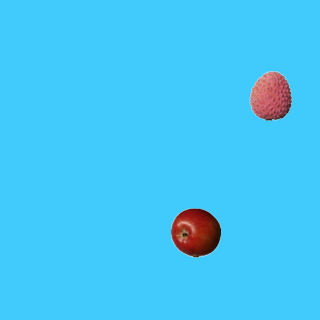Apple Braeburn: (170, 207, 220, 257)
Lychee: (245, 70, 295, 120)
